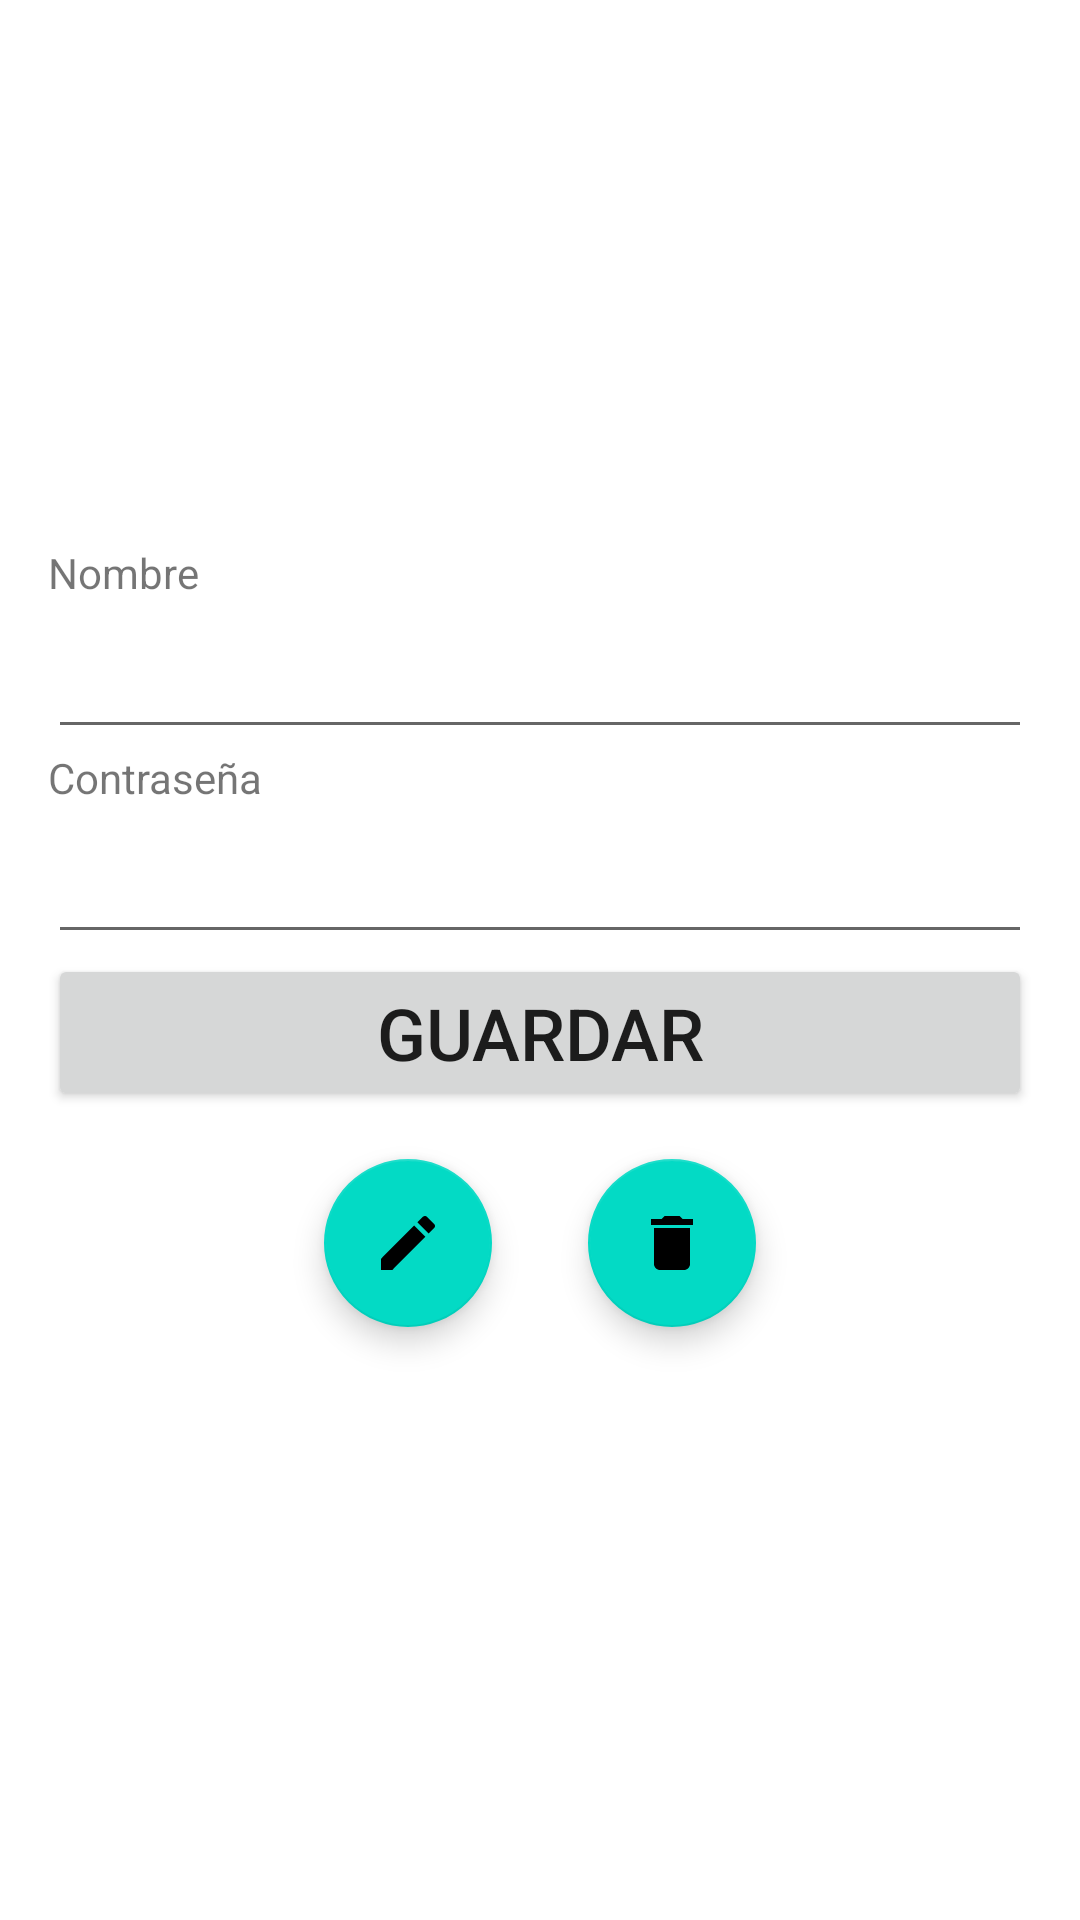

Icon bounding boxes for this 1080×1920 phone screenshot, format (x1, y1, x2, y2):
delete: (588, 1159, 756, 1327)
edit: (324, 1159, 492, 1327)
